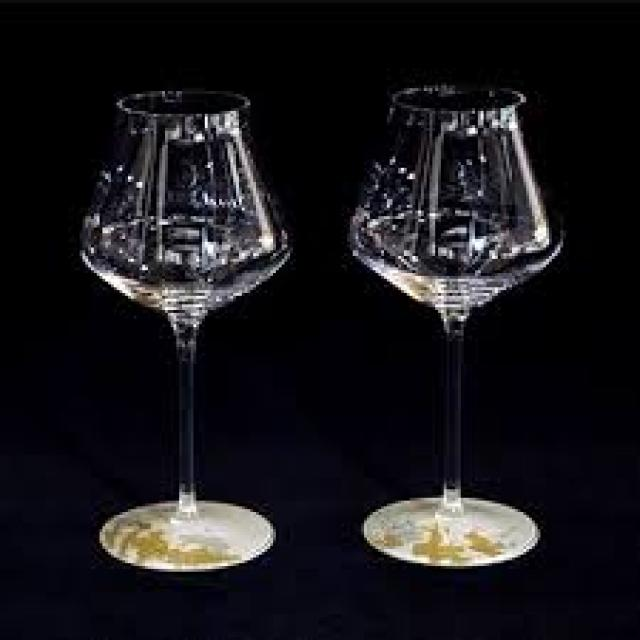glass: (342, 80, 564, 566), (69, 85, 288, 569)
